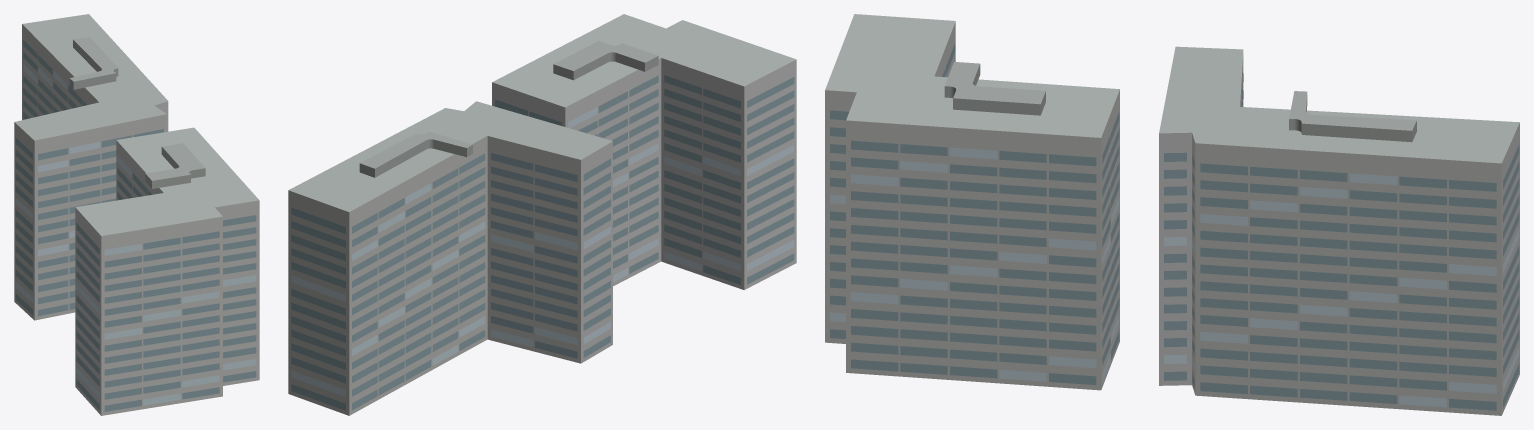
Rendered from apt-a13482801.glb.
3 views of the same model, side by side, from view 1: azimuth 30°, elevation 25°; view 2: azimuth 150°, elevation 25°; view 3: azimuth 270°, elevation 25° (orthographic). The views are drawn at different scales.
Visible parts, largest first — view 1: apt-a13482801; view 2: apt-a13482801; view 3: apt-a13482801.
Boxes of the visible parts, bbox=[...] form: apt-a13482801: bbox=[14, 14, 259, 415]; apt-a13482801: bbox=[288, 14, 796, 415]; apt-a13482801: bbox=[825, 14, 1519, 415].
Bounding box in the file's own units: 58.1 × 47.81 × 114.
